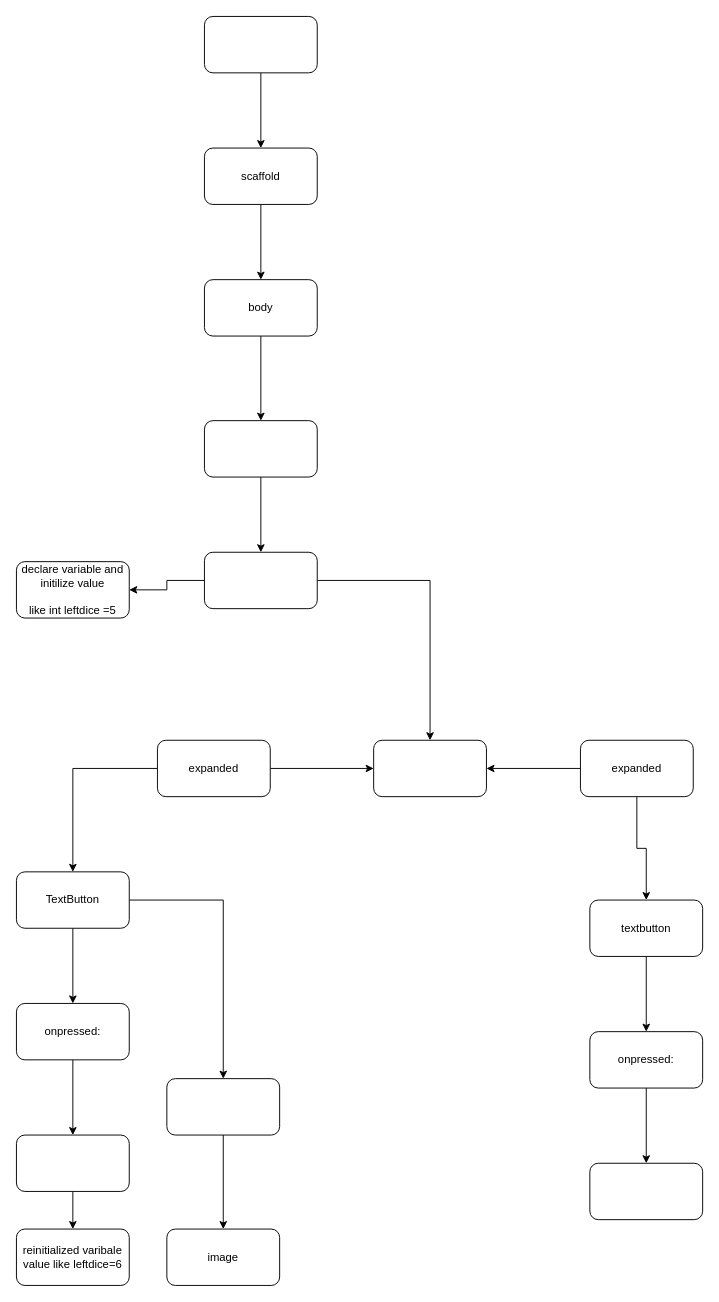
Some shapes in this 719 by 1302 pixel diagram are drawn without their labels. The box of each missing label's shape, as (x1, y1, x2, y2) in pixels:
build: (373, 739, 486, 797)
child: (166, 1078, 280, 1135)
dice(): (204, 420, 317, 477)
material: (204, 16, 317, 73)
setState: (16, 1134, 129, 1191)
stateful widgit: (204, 551, 317, 609)
